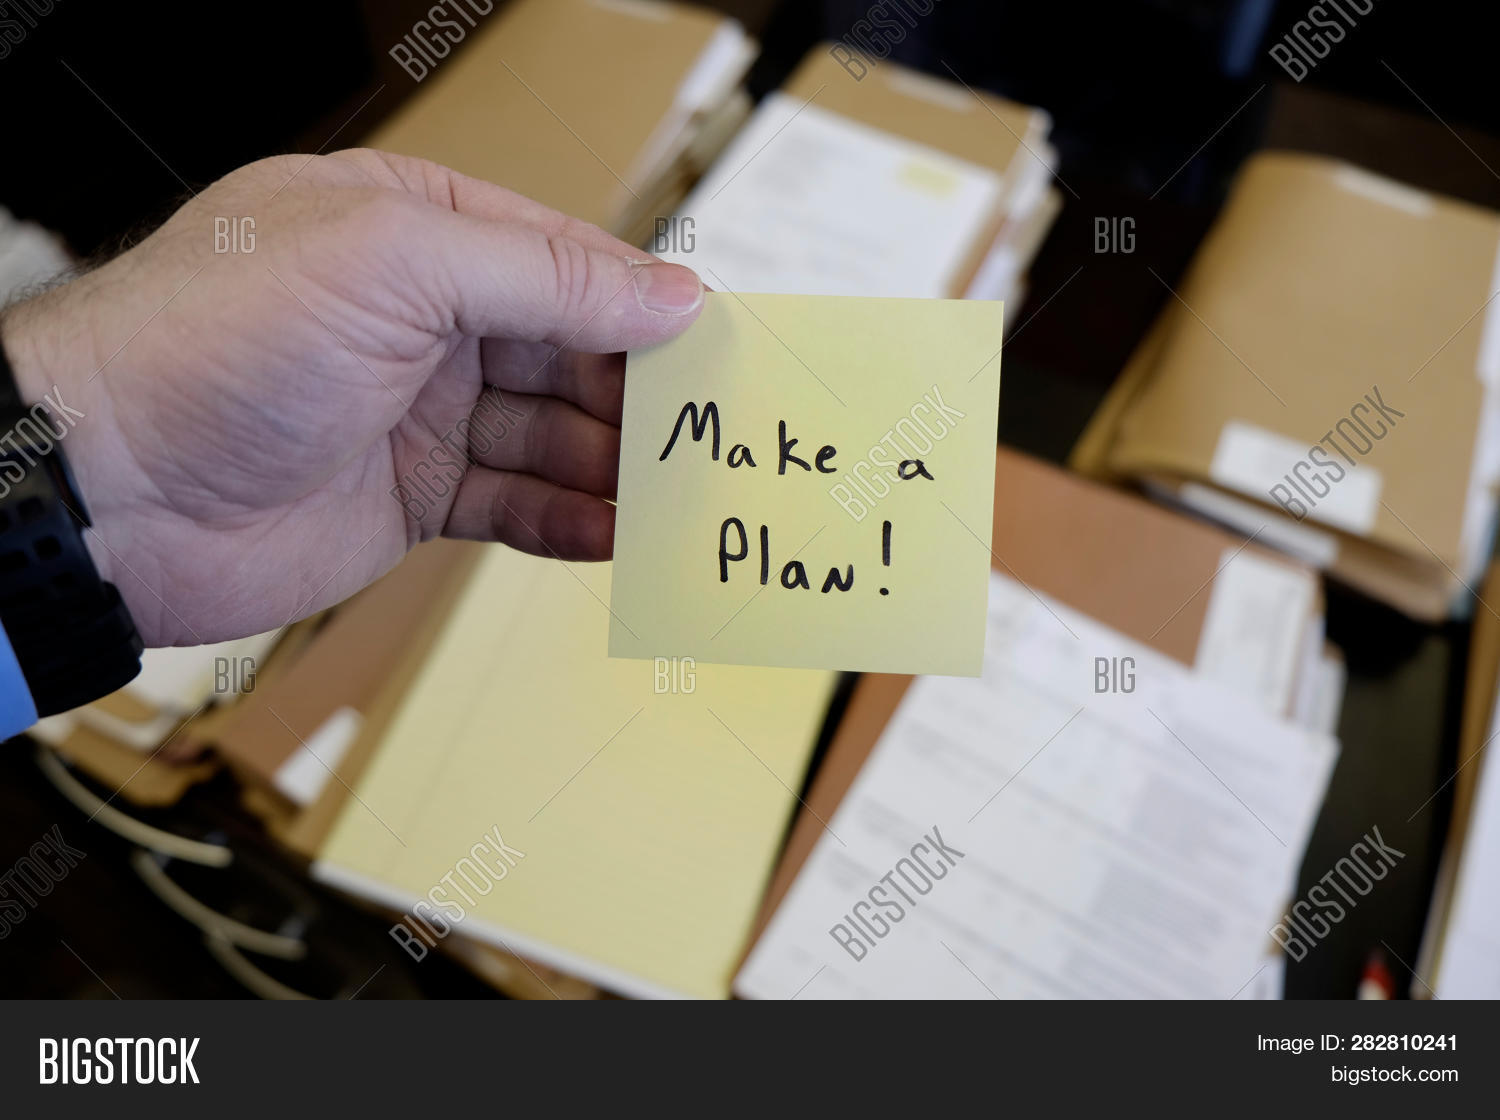Note: (611, 282, 1005, 682)
